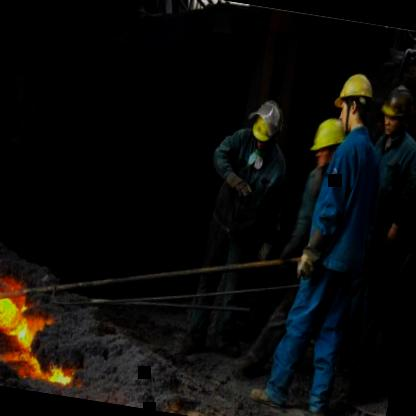helmet: (328, 66, 380, 137), (304, 112, 349, 178), (378, 84, 416, 136), (246, 102, 281, 150)
